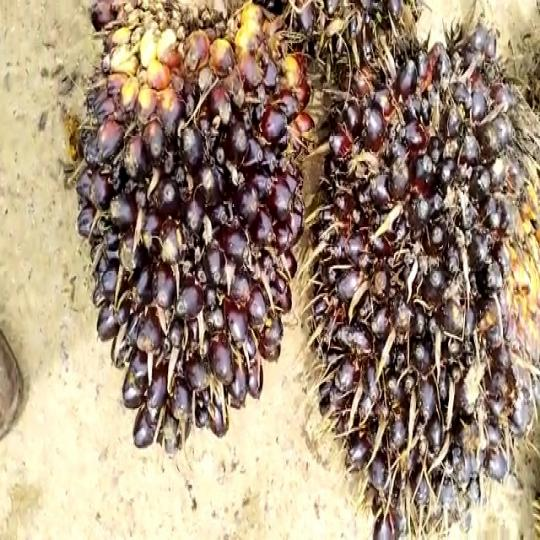mentah: (315, 0, 532, 540), (66, 0, 317, 463)
